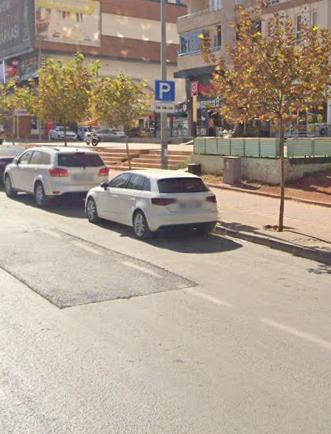park: (155, 79, 175, 101)
